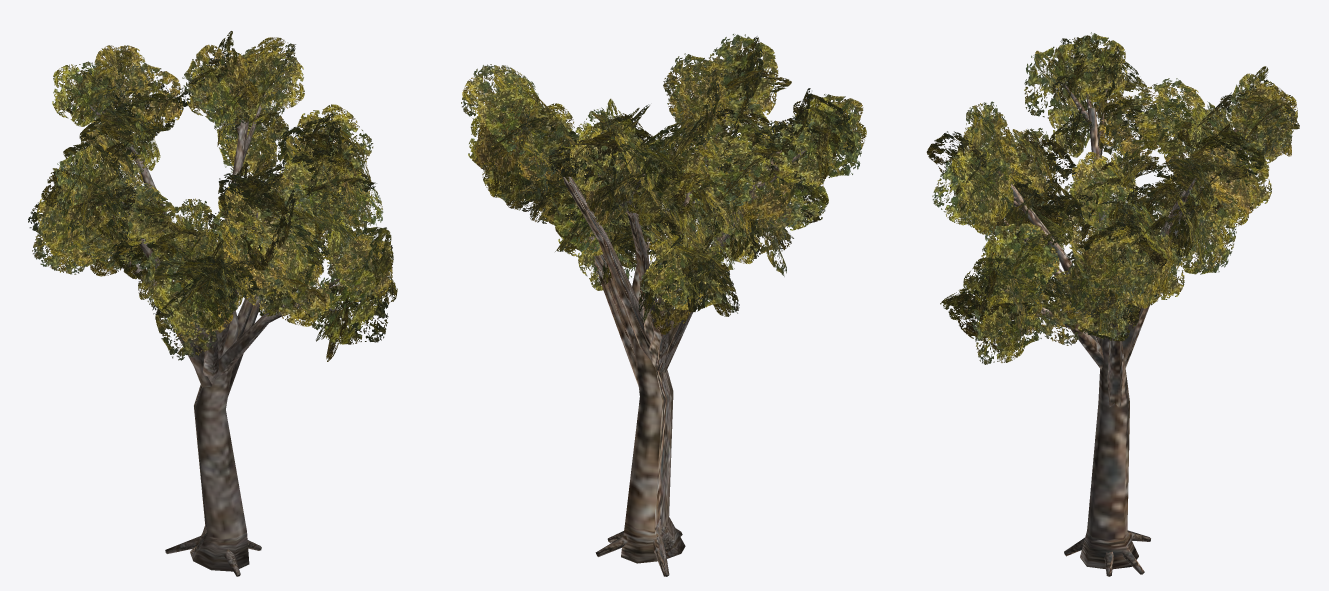
File: Tamarind_Tree.glb
3 views of the same model, side by side, from view 1: azimuth 30°, elevation 25°; view 2: azimuth 150°, elevation 25°; view 3: azimuth 270°, elevation 25° (orthographic). The views are drawn at different scales.
Parts seen in each view (by area): view 1: Tamarind_Tree; view 2: Tamarind_Tree; view 3: Tamarind_Tree.
Part boxes in pixels (box(x1,y1,x2,y2)): Tamarind_Tree: box(28, 31, 397, 576); Tamarind_Tree: box(461, 34, 866, 576); Tamarind_Tree: box(926, 32, 1299, 576).
Size of the model in its own units: 6.38 by 8 by 6.17.
2 materials, 2 textured.
